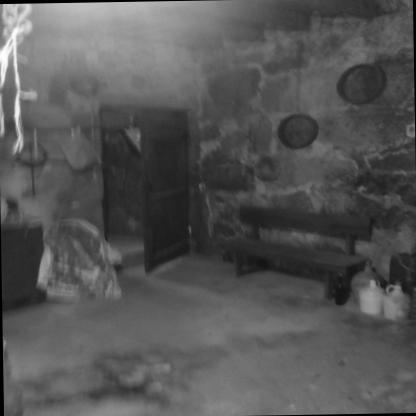semi: (83, 91, 204, 271)
